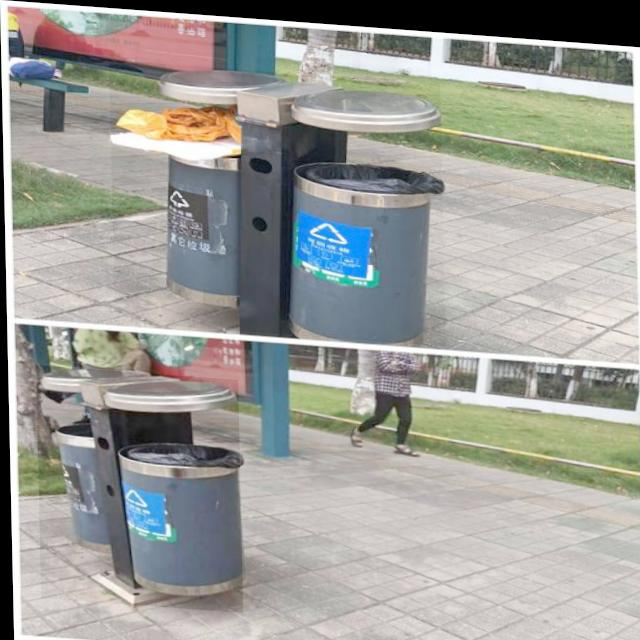garbage_bin: (35, 365, 241, 609)
overflow: (109, 58, 445, 340)
